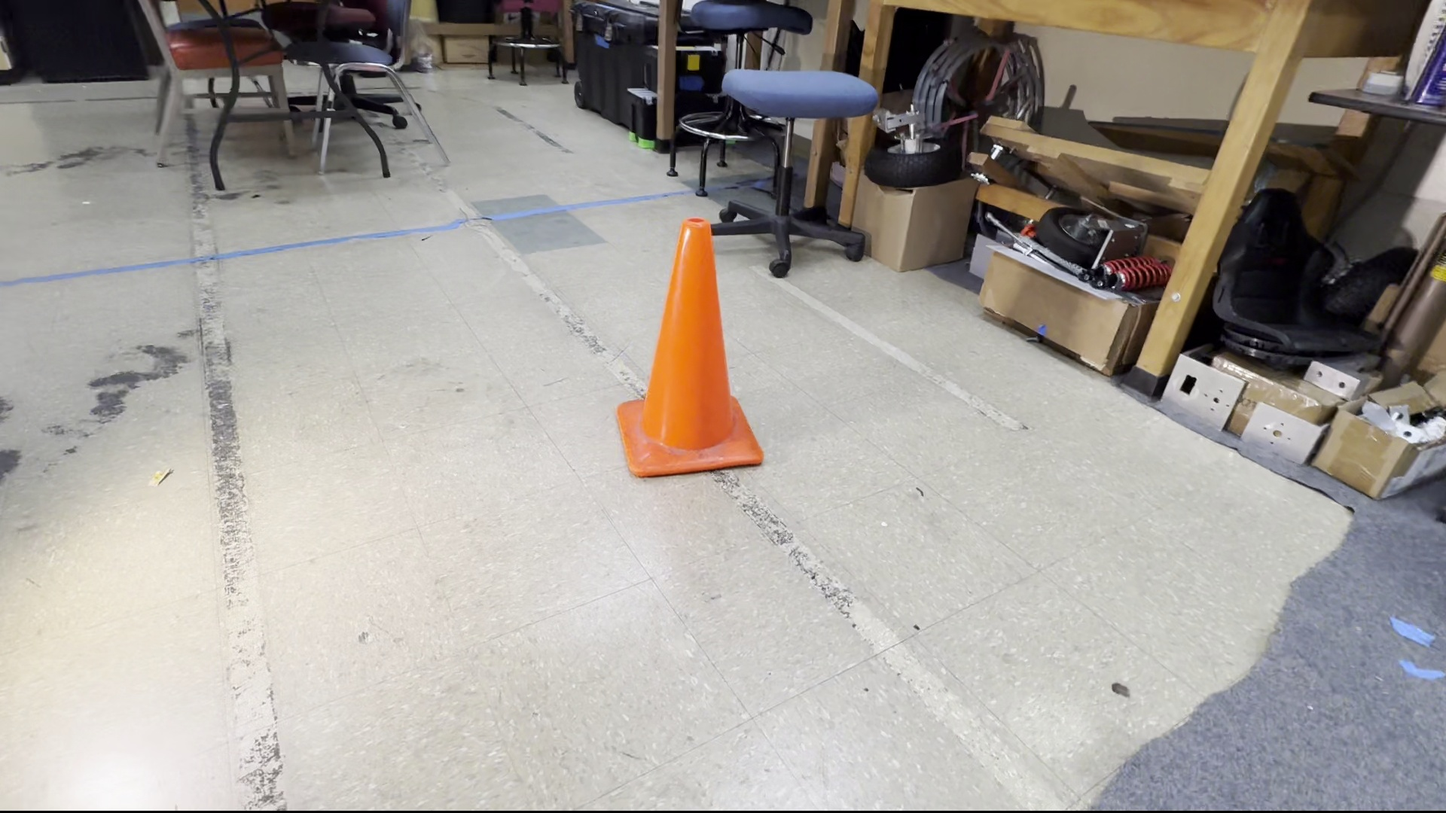traffic_cone: (615, 216, 765, 479)
